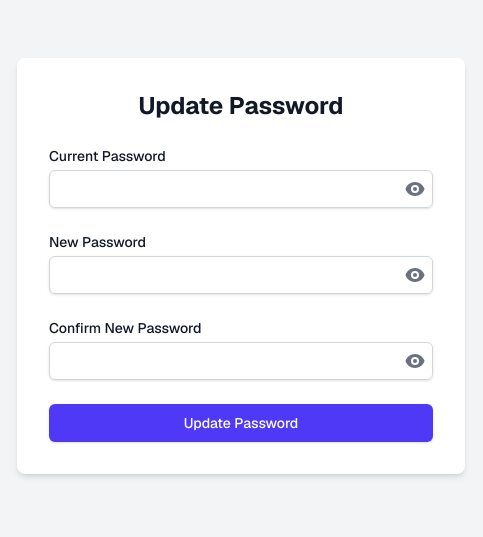
Test case: UpdatePasswordForm - Comprehensive Tests › Basic Validation › should show validation errors for empty fields
The width and height of the screenshot is (483, 537).
What coordinates should you click on to do the following:
click the button "Update Password"
I would click on:
 (241, 423)
Its box is [49, 404, 433, 442].
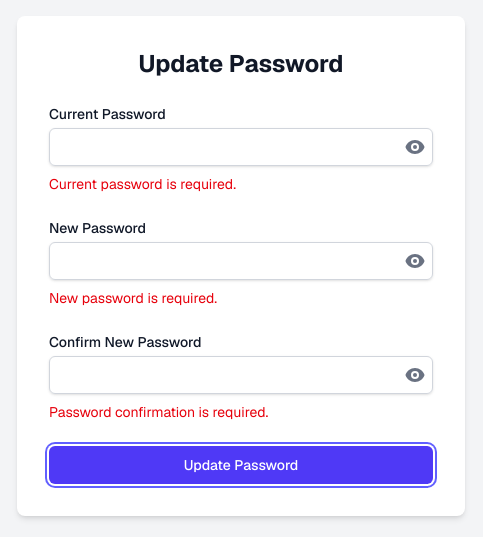
Result: the text "Current password is required." is shown at [49, 175, 236, 193]
Result: the text "New password is required." is shown at [49, 289, 217, 307]
Result: the text "Password confirmation is required." is shown at [49, 403, 268, 421]
